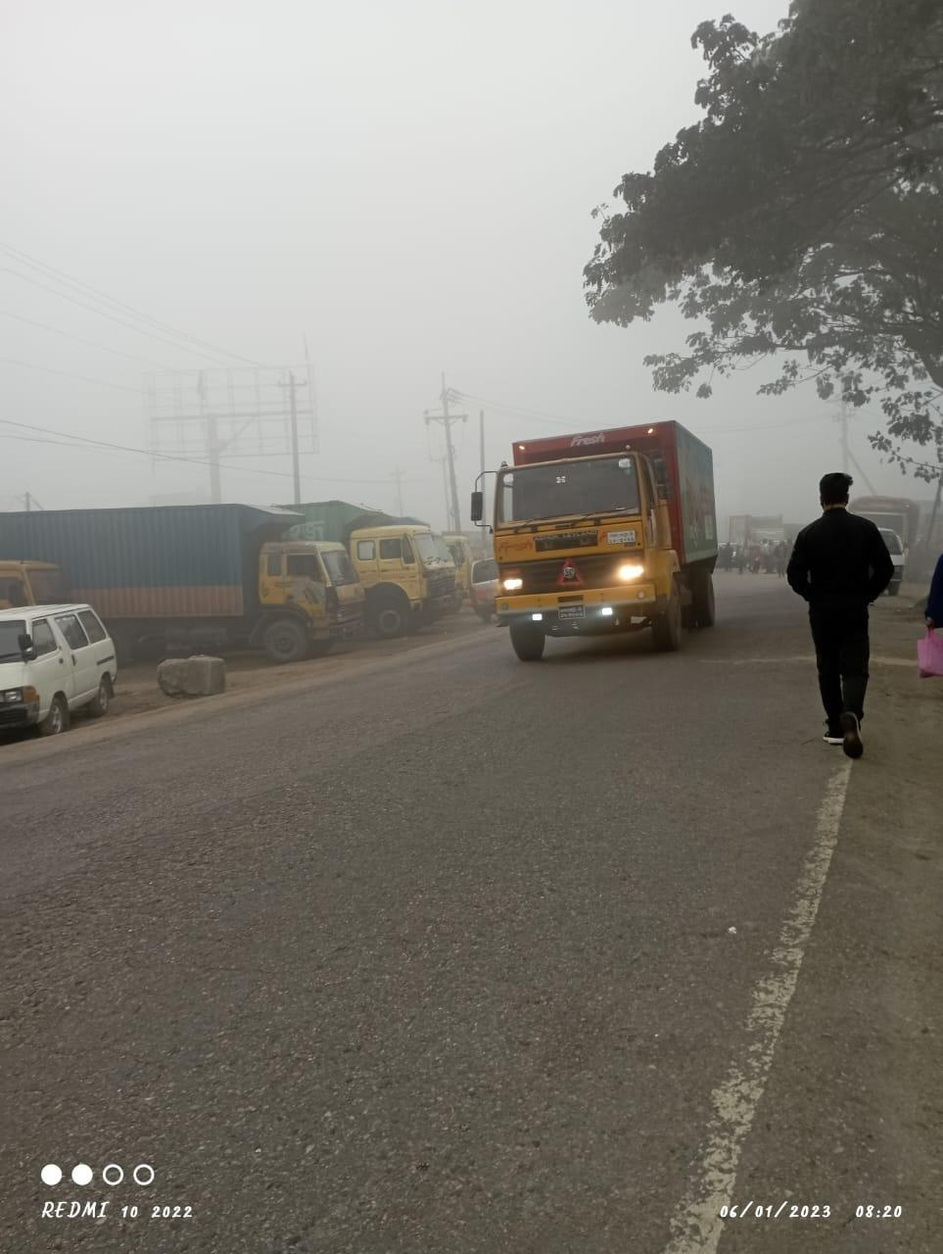Car: (1, 601, 118, 722)
Truck: (464, 411, 731, 657), (12, 499, 366, 661), (325, 493, 468, 636)
